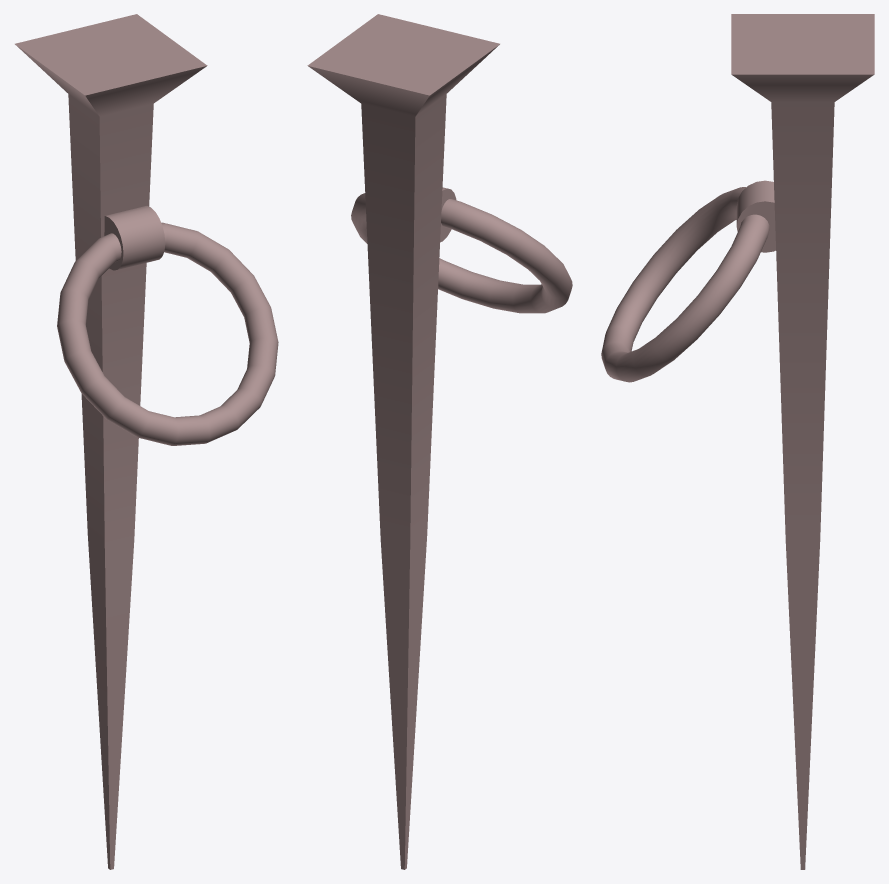
Rendered from dyn_gadget_anchorblockout.fbx.
3 views of the same model, side by side, from view 1: azimuth 30°, elevation 25°; view 2: azimuth 150°, elevation 25°; view 3: azimuth 270°, elevation 25° (orthographic).
Parts seen in each view (by area): view 1: pCube5, pTorus2, pCylinder5; view 2: pCube5, pTorus2; view 3: pCube5, pTorus2, pCylinder5.
Part boxes in pixels (bbox=[...]): pCube5: bbox=[15, 14, 207, 869]; pTorus2: bbox=[57, 222, 278, 445]; pCylinder5: bbox=[104, 206, 165, 270]; pCube5: bbox=[307, 14, 499, 869]; pTorus2: bbox=[351, 193, 572, 313]; pCube5: bbox=[731, 14, 874, 869]; pTorus2: bbox=[601, 187, 769, 382]; pCylinder5: bbox=[736, 180, 775, 252].
Bounding box in the file's own units: 6.1 × 23.14 × 6.95.
